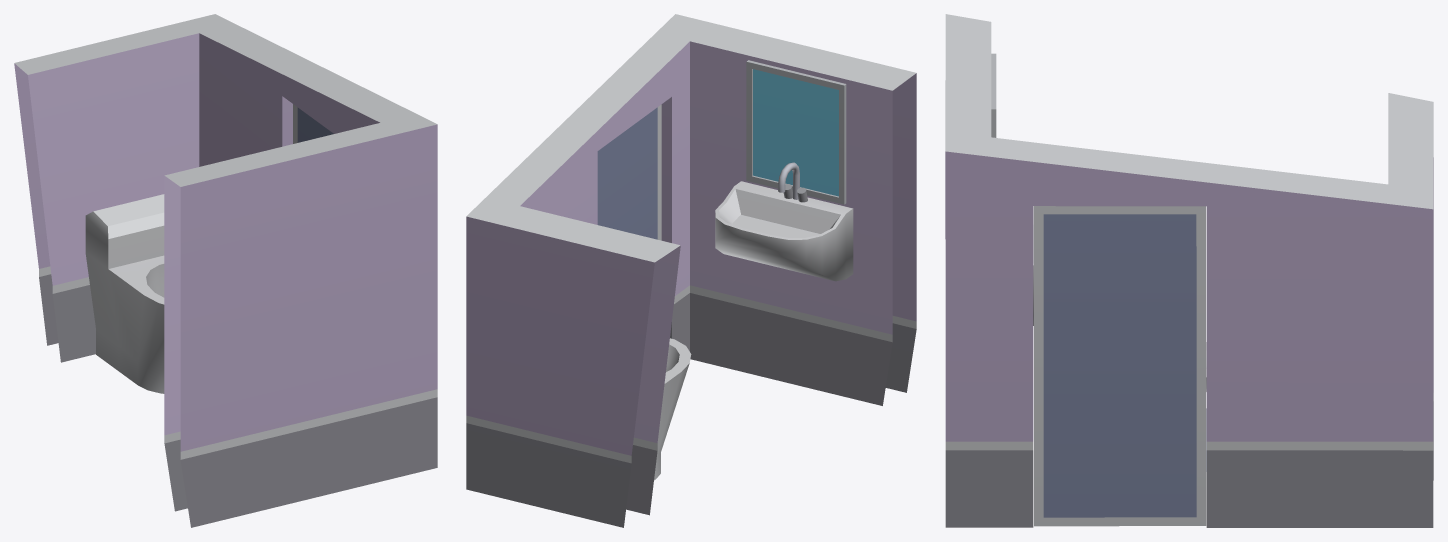
The model's file is Airplane_WS.FBX.
3 views of the same model, side by side, from view 1: azimuth 30°, elevation 25°; view 2: azimuth 150°, elevation 25°; view 3: azimuth 270°, elevation 25° (orthographic). The views are drawn at different scales.
Visible parts, largest first — view 1: Airplane_WS; view 2: Airplane_WS; view 3: Airplane_WS.
Boxes of the visible parts, x1,y1,x2,y2 form: Airplane_WS: (14, 14, 437, 527); Airplane_WS: (466, 14, 916, 527); Airplane_WS: (945, 14, 1433, 527).
Bounding box in the file's own units: 66.83 × 85.41 × 100.
1 material, 1 textured.
